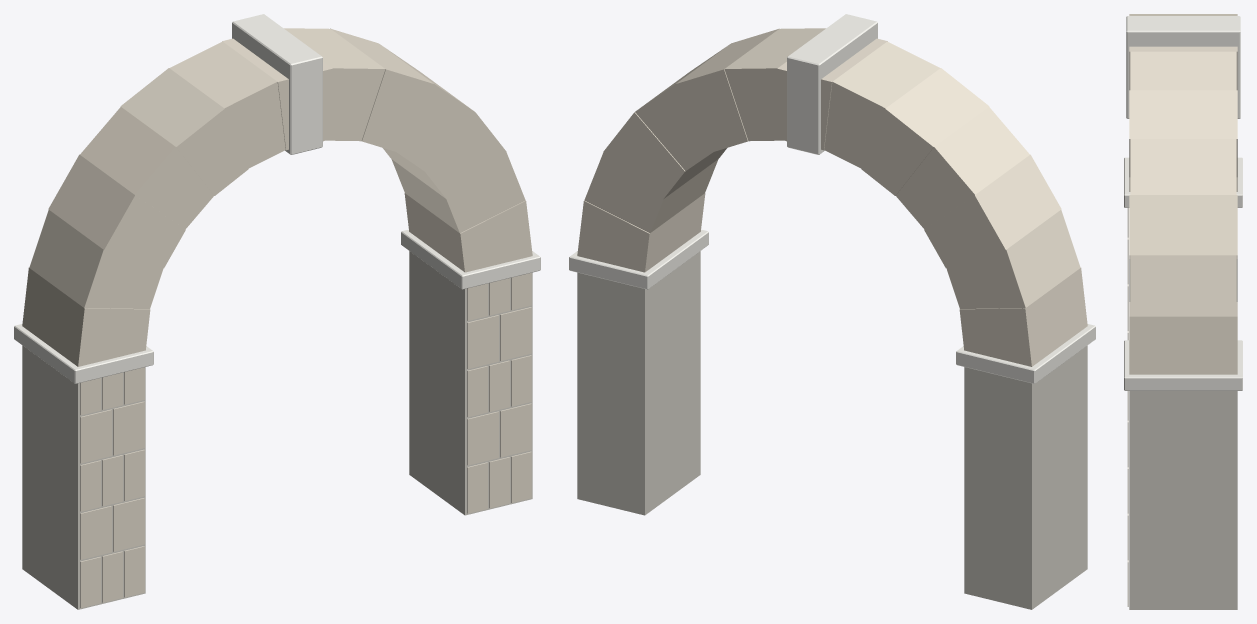
The model's file is roman-bathhouse-and-palaestra-arch-section-40ae14b5__37865.glb.
The picture shows the model from 3 angles, left to right: view 1: azimuth 30°, elevation 25°; view 2: azimuth 150°, elevation 25°; view 3: azimuth 270°, elevation 25°; orthographic projection. The views are drawn at different scales.
Parts seen in each view (by area): view 1: arch-section; view 2: arch-section; view 3: arch-section.
Part boxes in pixels (<box>): arch-section: <box>14,14,540,609</box>; arch-section: <box>569,14,1095,609</box>; arch-section: <box>1124,14,1242,609</box>.
Size of the model in its own units: 4.82 by 4.89 by 1.1.
